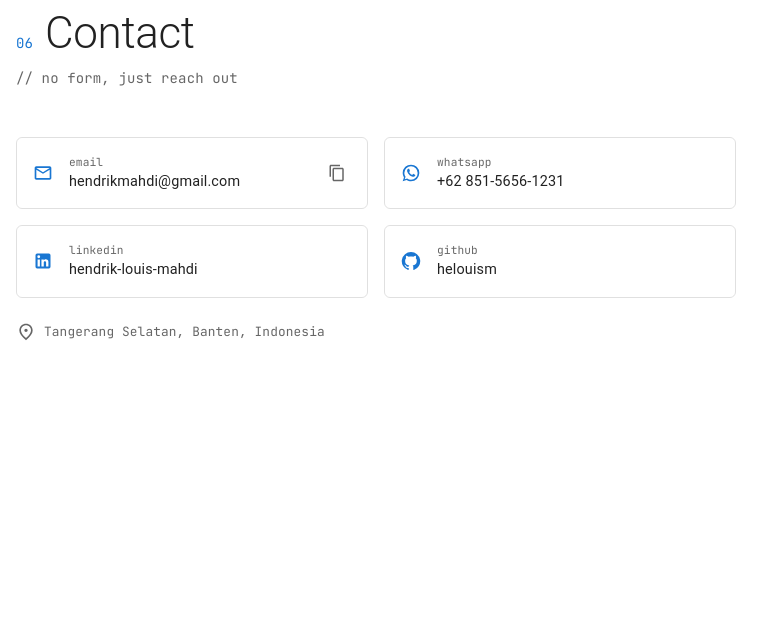
Scenario: Contact copy button › confirms the copy to the user
Click the button named "copy email". click: click(337, 173)
box: [323, 159, 351, 187]
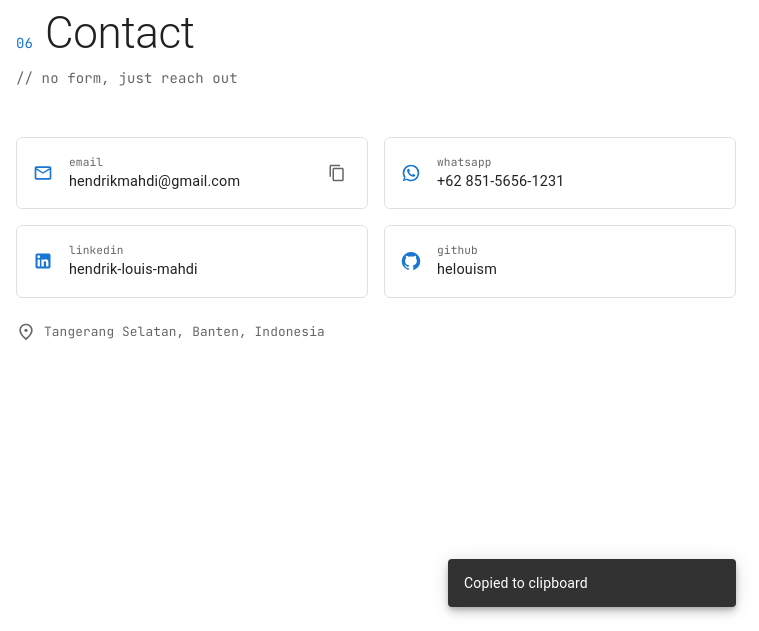
Now the text "Copied to clipboard" is shown, box [464, 575, 588, 591]
